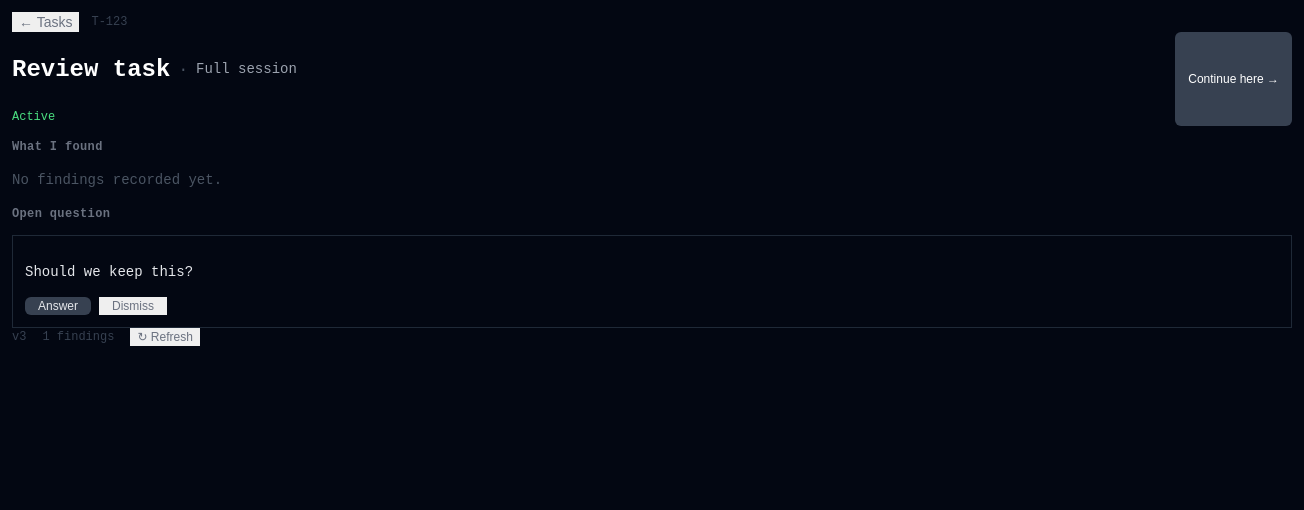
it: TaskDetailTab answer and dismiss actions › refreshes the task after a successful answer save
Expected: the text "Should we keep this?" is shown, [25, 264, 193, 280]
Click the button "Answer" at coordinates (58, 306), box [25, 297, 91, 315]
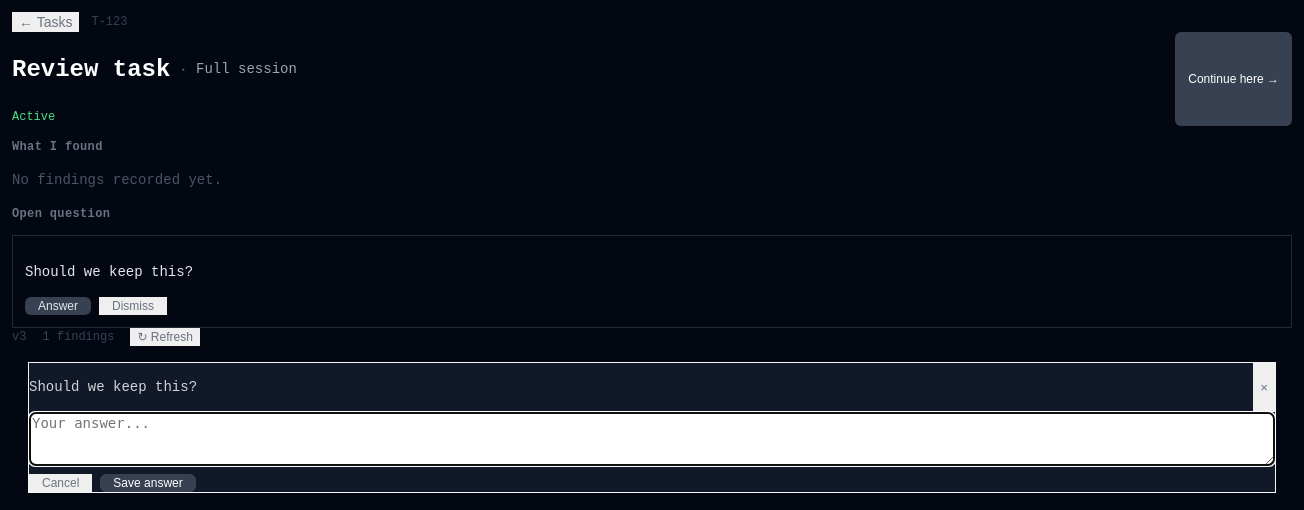
Type "Yes" into the text box with placeholder "Your answer..." at coordinates (652, 439), box [29, 412, 1275, 466]
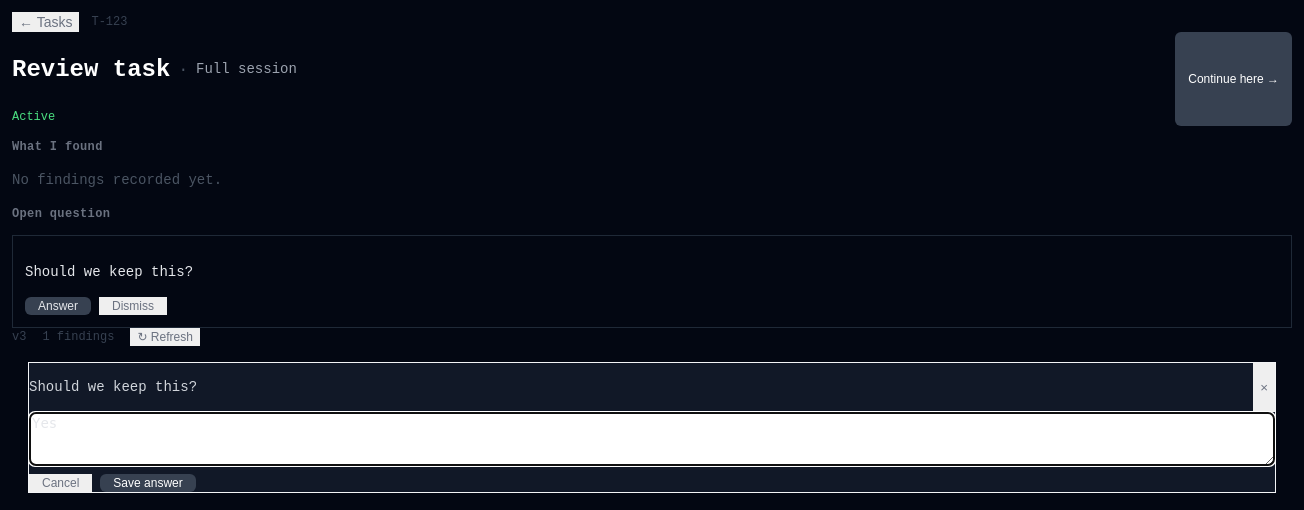
Click the button "Save answer" at coordinates (148, 483), box [100, 474, 196, 492]
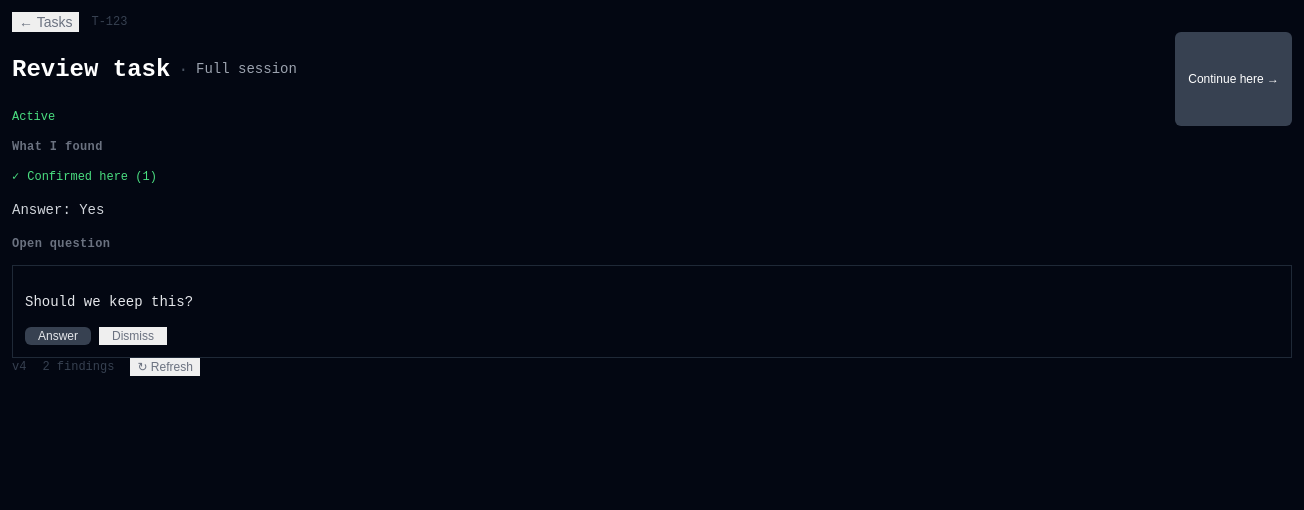
Expected: the field with placeholder "Your answer..." is not shown
Result: the text "v4" is shown at [12, 358, 26, 376]
